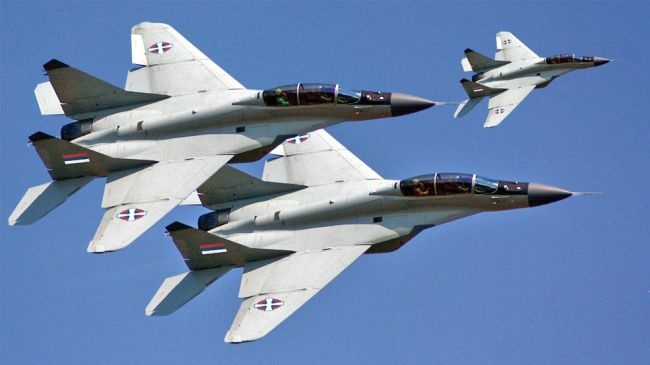Mig-29: (26, 14, 407, 184), (186, 143, 579, 303), (444, 23, 611, 124)
